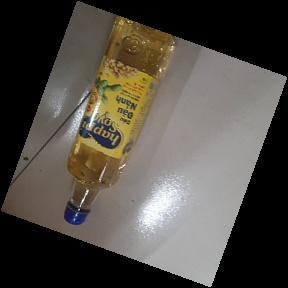Happy Soya: (61, 10, 179, 227)
